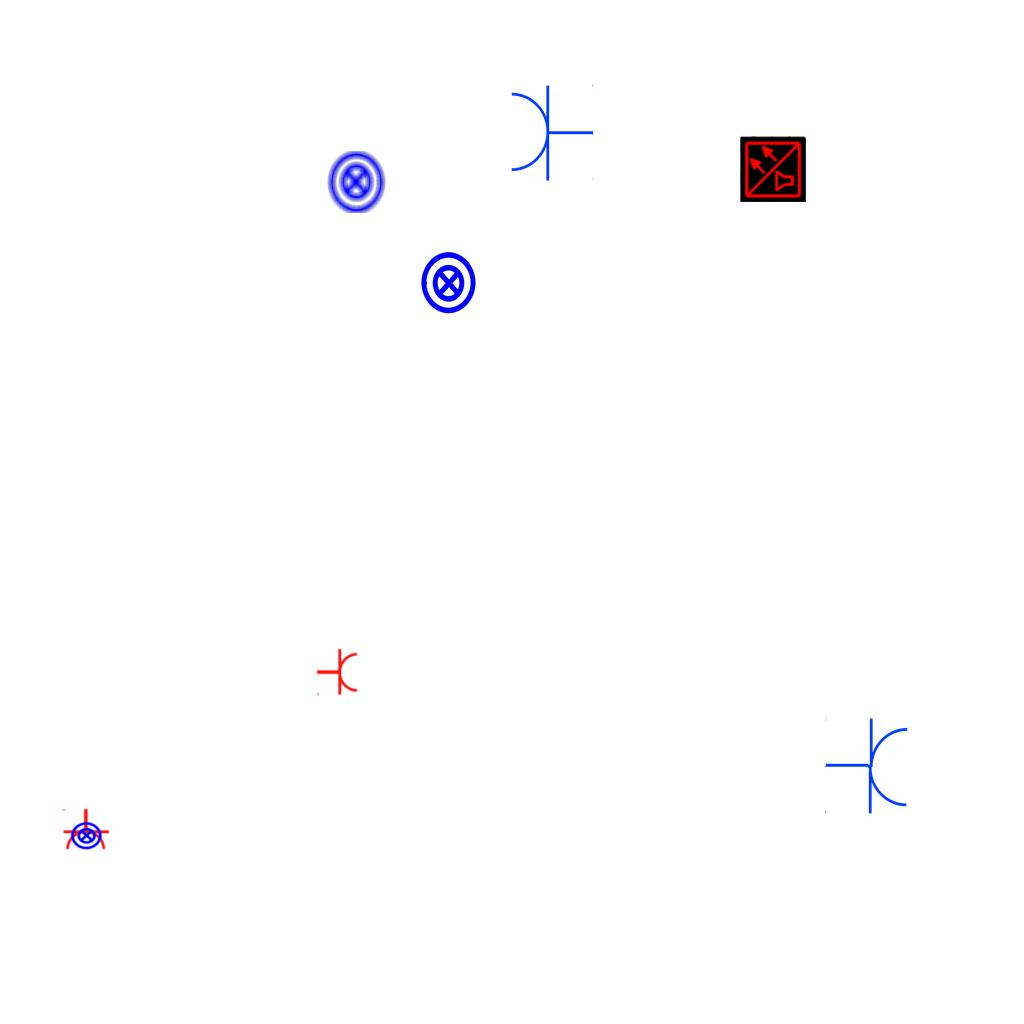OKW_Multisensormelder_(Kombination_optischer_Rauch-Kahlenmonoxid_Waerme-Melder): (740, 136, 806, 202)
Schukosteckdose_einfach: (823, 715, 913, 818), (507, 82, 594, 182), (316, 648, 359, 698), (60, 808, 110, 851)
Taster_beleuchtet: (323, 149, 389, 215), (416, 250, 482, 316), (70, 819, 103, 852)
